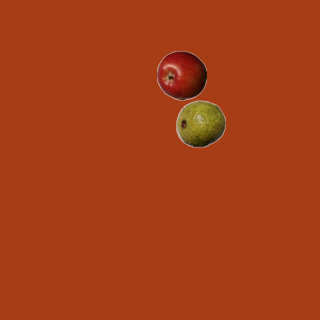Apple Braeburn: (156, 50, 206, 100)
Guava: (175, 98, 225, 148)
